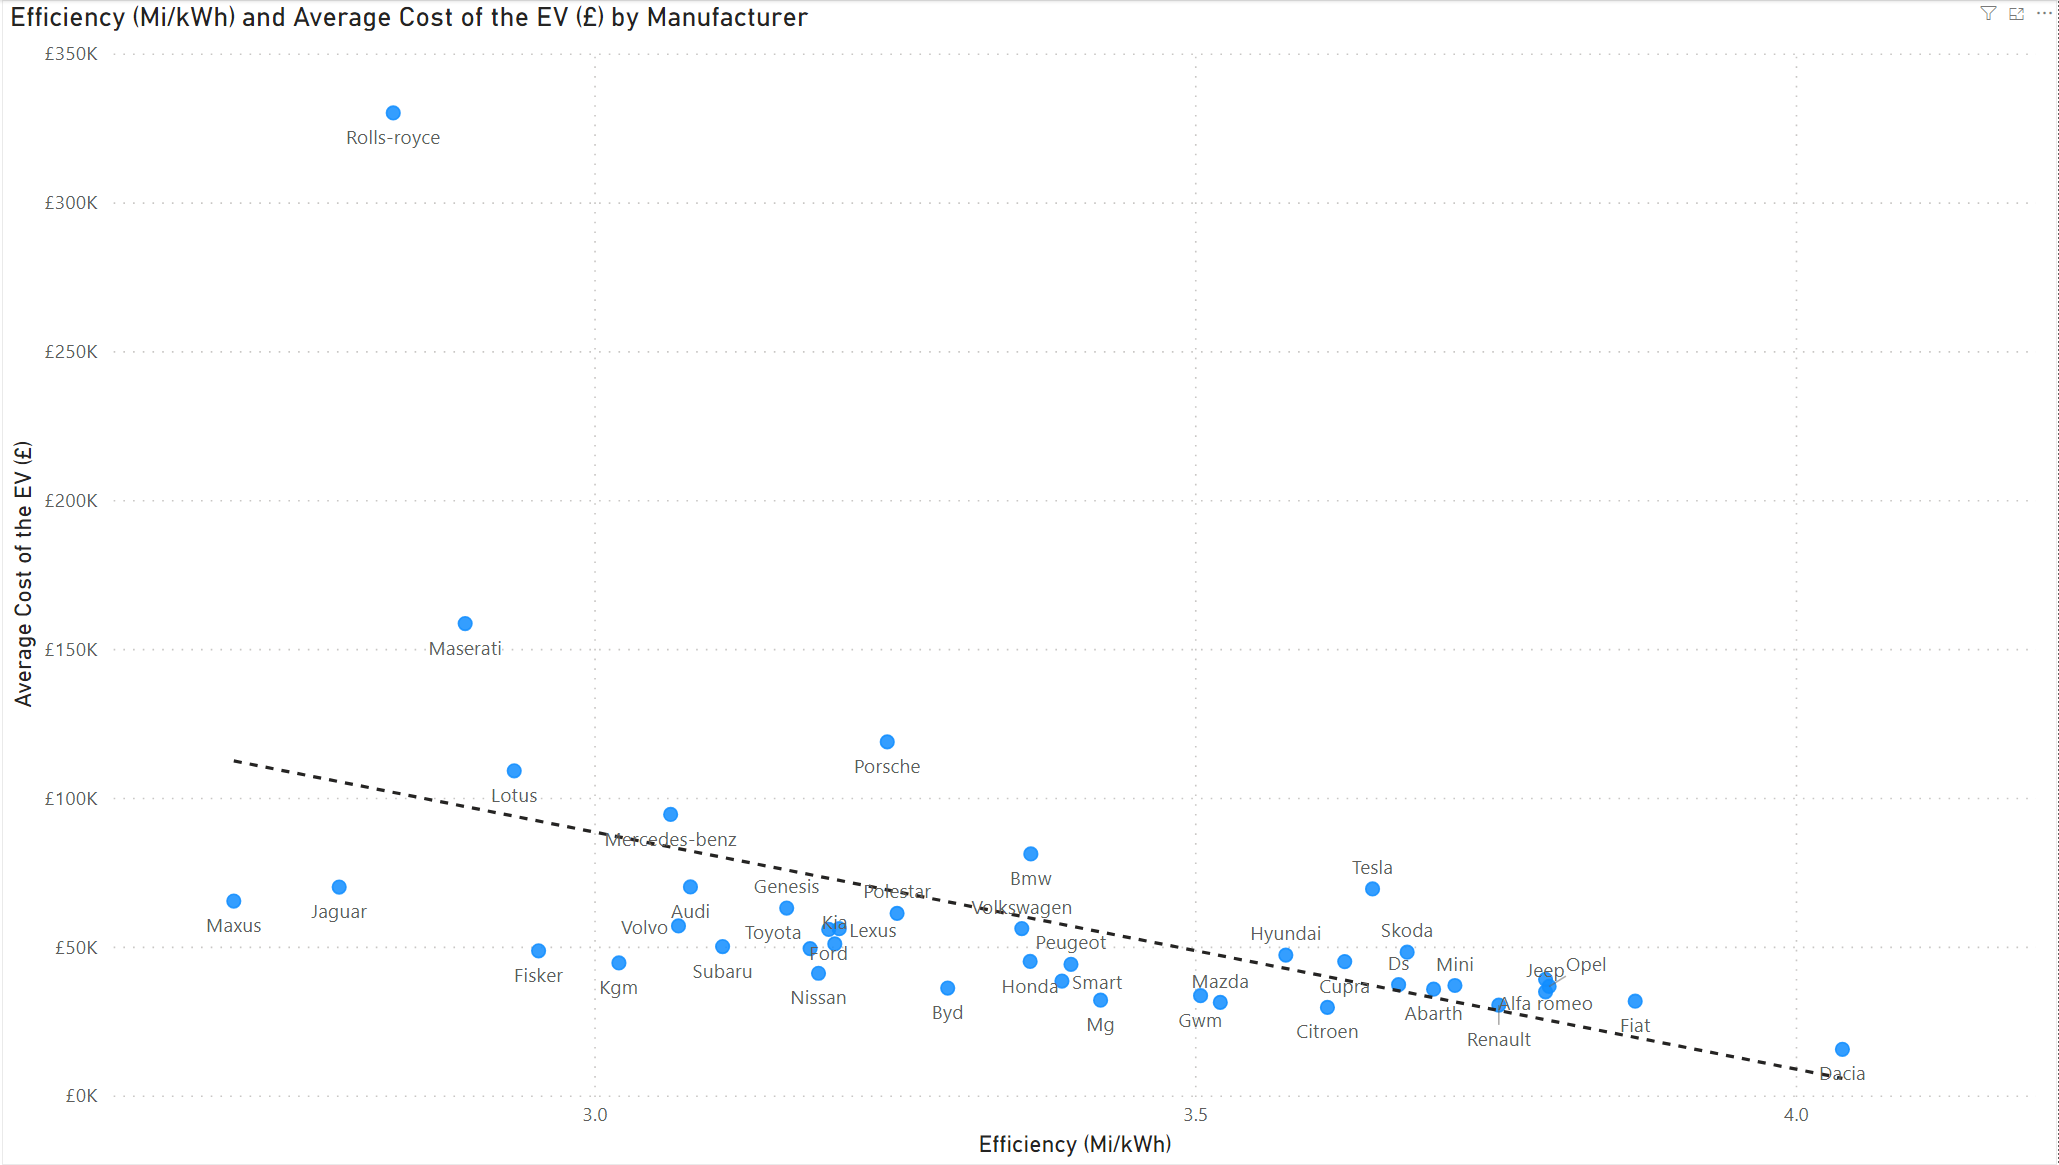

Layout of this report page (visuals, bound fields, positions):
{"tool":"powerbi","page":{"name":"Efficiency / Cost","canvas":[1280,720],"ordinal":5},"visuals":[{"type":"scatterChart","fields":{"Category":["EV Data.Manufacturer"],"Y":["Sum(EV Data.Average Cost)"],"X":["Sum(EV Data.Average Mi/kWh)"]},"box":[9.9,0,1270,720],"z":0}]}

Visuals, with their boxes in screenshot pixels (x1, y1, x2, y2), scaled from the page's 1280x720 canvas onto the 2059x1165 screenshot:
scatterChart - EV Data.Manufacturer x Sum(EV Data.Average Cost): 16:0:2058:1164
